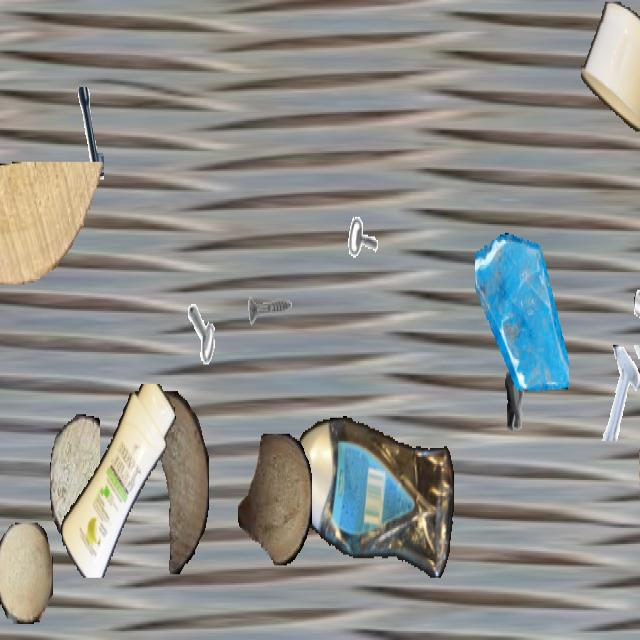glass: (475, 231, 569, 398)
metal: (46, 87, 104, 190), (187, 270, 241, 366), (490, 359, 540, 448), (596, 345, 640, 441), (246, 270, 292, 352), (348, 192, 388, 263), (634, 258, 640, 368)
plastic: (293, 414, 453, 585), (58, 384, 180, 576), (581, 2, 640, 130)
wood: (137, 391, 209, 573), (0, 162, 107, 282), (238, 434, 312, 565), (50, 414, 100, 542), (0, 523, 52, 622), (639, 425, 640, 535)
